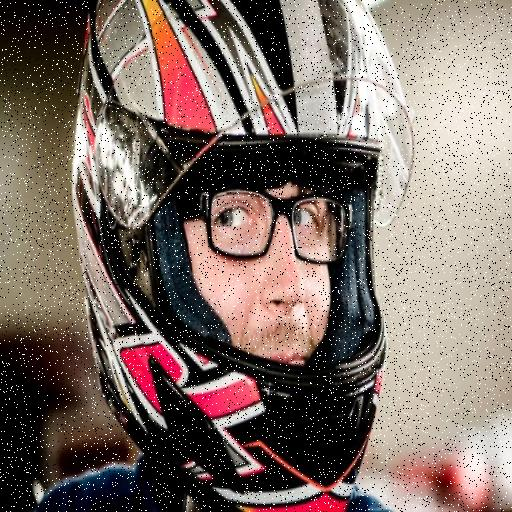Helmet: (44, 15, 424, 486)
